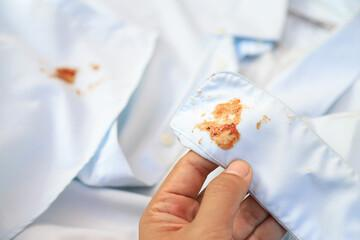gun: (198, 90, 244, 148), (36, 59, 101, 94), (253, 109, 272, 132)
